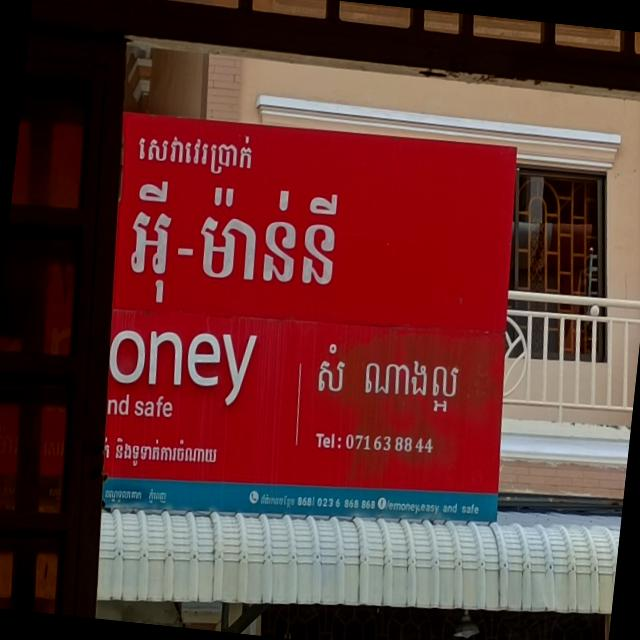1: (312, 340, 465, 421), (102, 486, 172, 508)
Yolov11kh: (126, 174, 344, 320), (136, 121, 262, 180), (109, 432, 226, 480), (257, 491, 296, 511)
